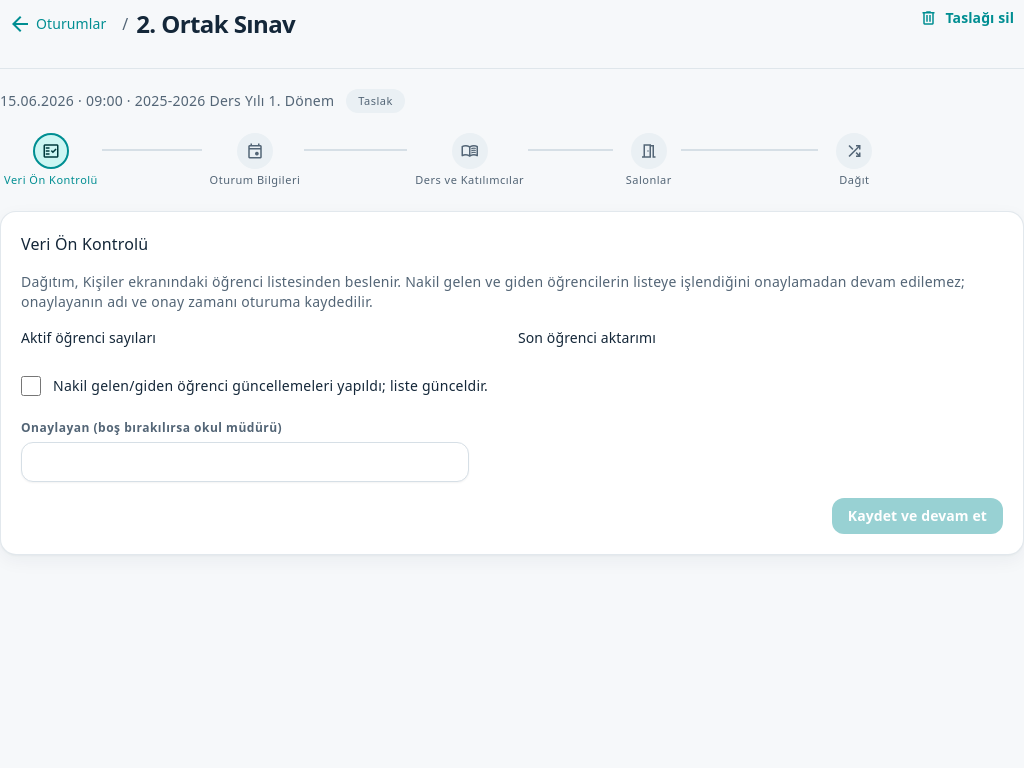
Test: OturumDetayPage › taslak silme onaylanınca remove çağrılır ve listeye dönülür
Click the button "Taslağı sil" at point(967, 18), box [910, 0, 1023, 36]
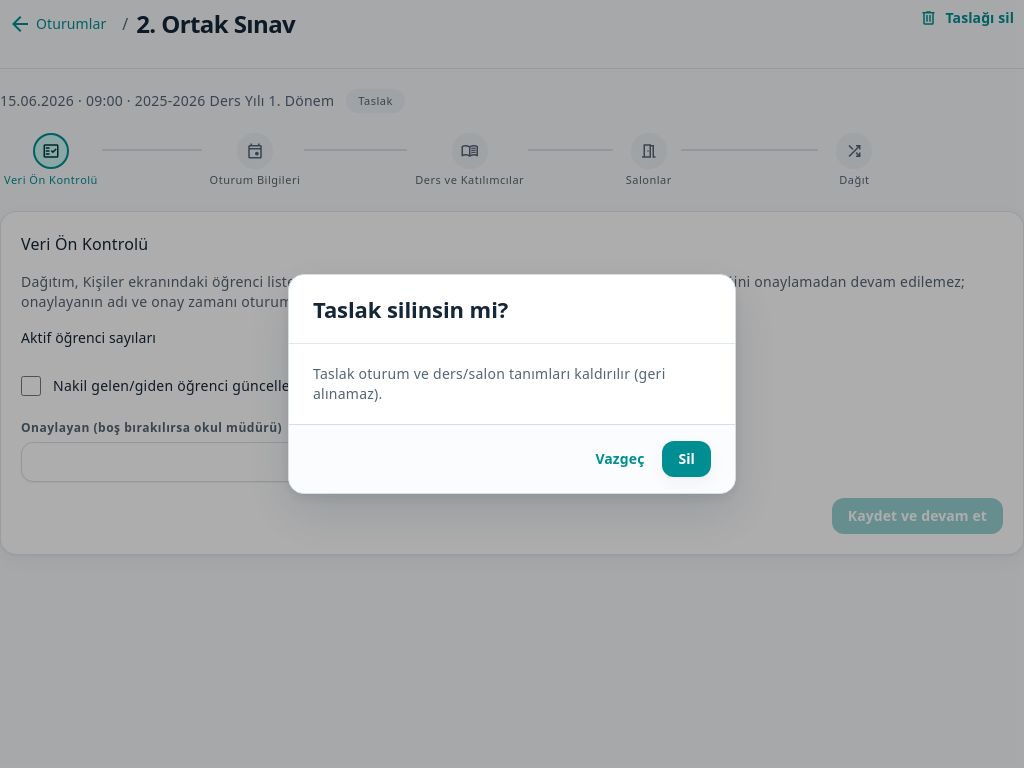
Click the button "Sil" at point(687, 459), box [662, 441, 711, 477]
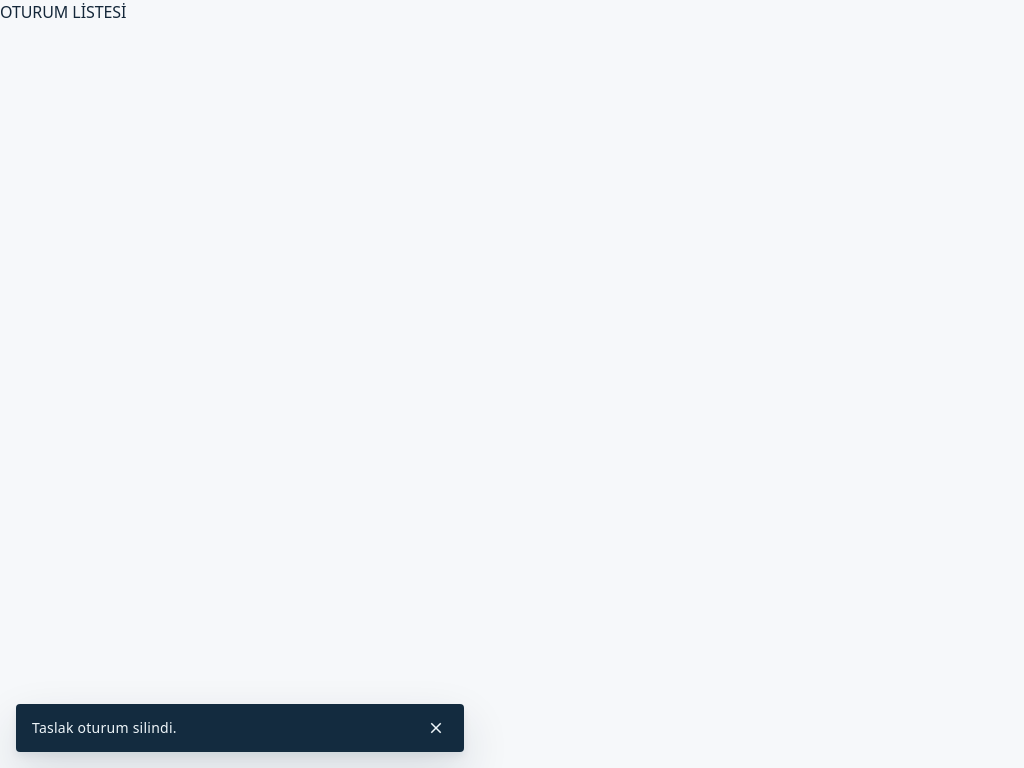
Expected: the text "OTURUM LİSTESİ" is shown, [0, 1, 126, 23]
